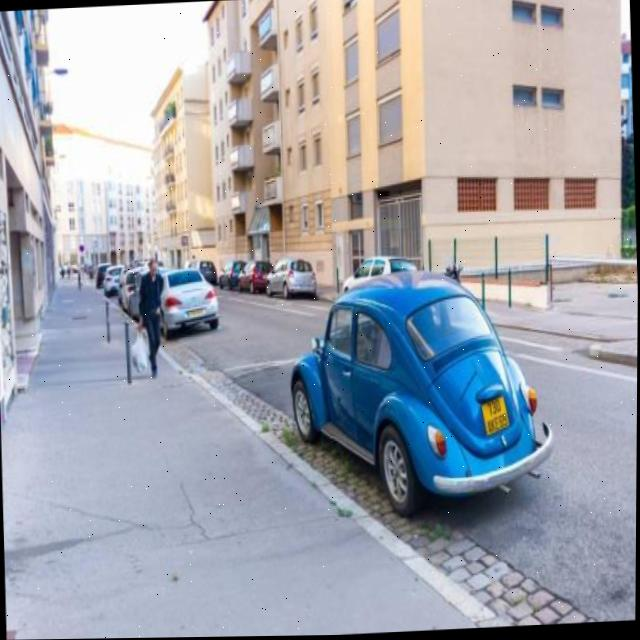vehicle: (282, 265, 552, 509), (157, 264, 220, 330), (260, 260, 320, 300)
